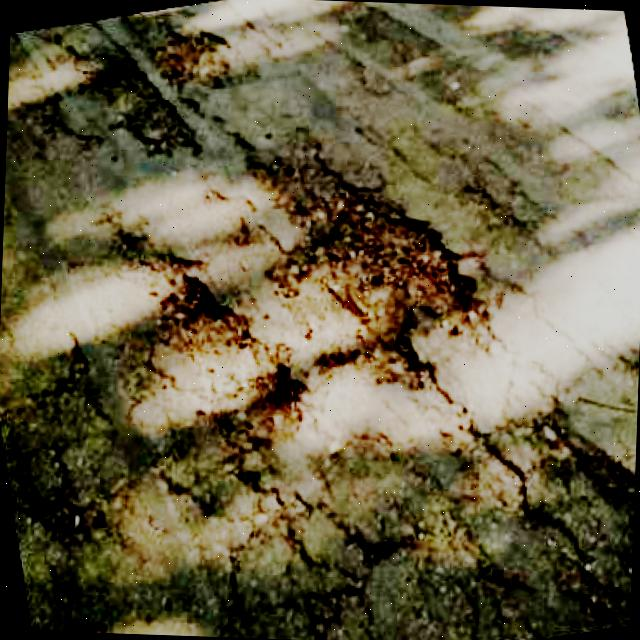pothole: (281, 176, 507, 398), (148, 253, 309, 444), (73, 20, 261, 146), (536, 415, 636, 615)
